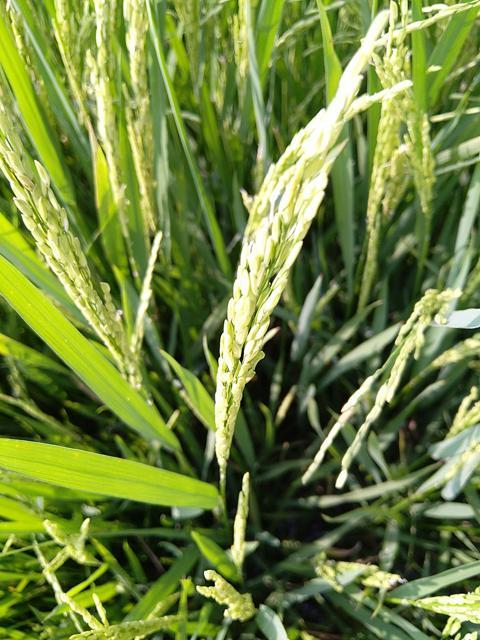Panicle Blight: (23, 175, 35, 196)
